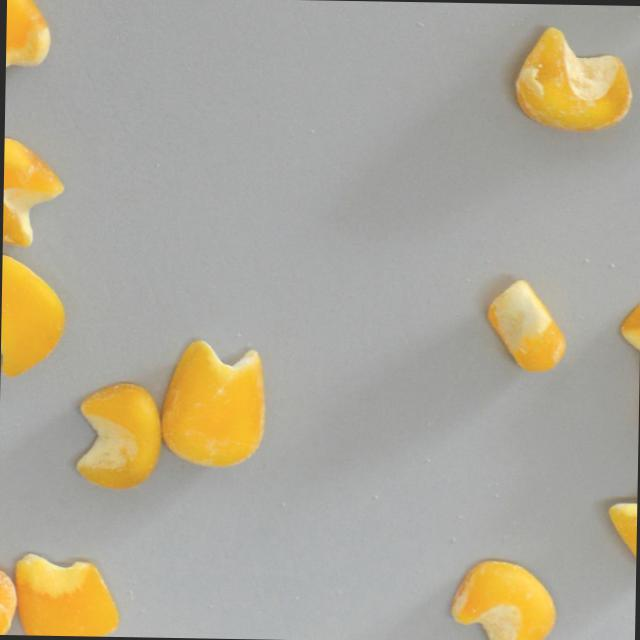no_canjicado: (160, 339, 266, 469), (73, 382, 162, 491), (12, 554, 119, 637), (0, 253, 67, 378), (1, 139, 64, 248), (4, 0, 52, 106), (605, 468, 637, 576), (617, 291, 640, 386)
pelicula: (510, 27, 635, 133), (449, 559, 558, 640), (485, 280, 568, 374), (0, 556, 17, 635)
